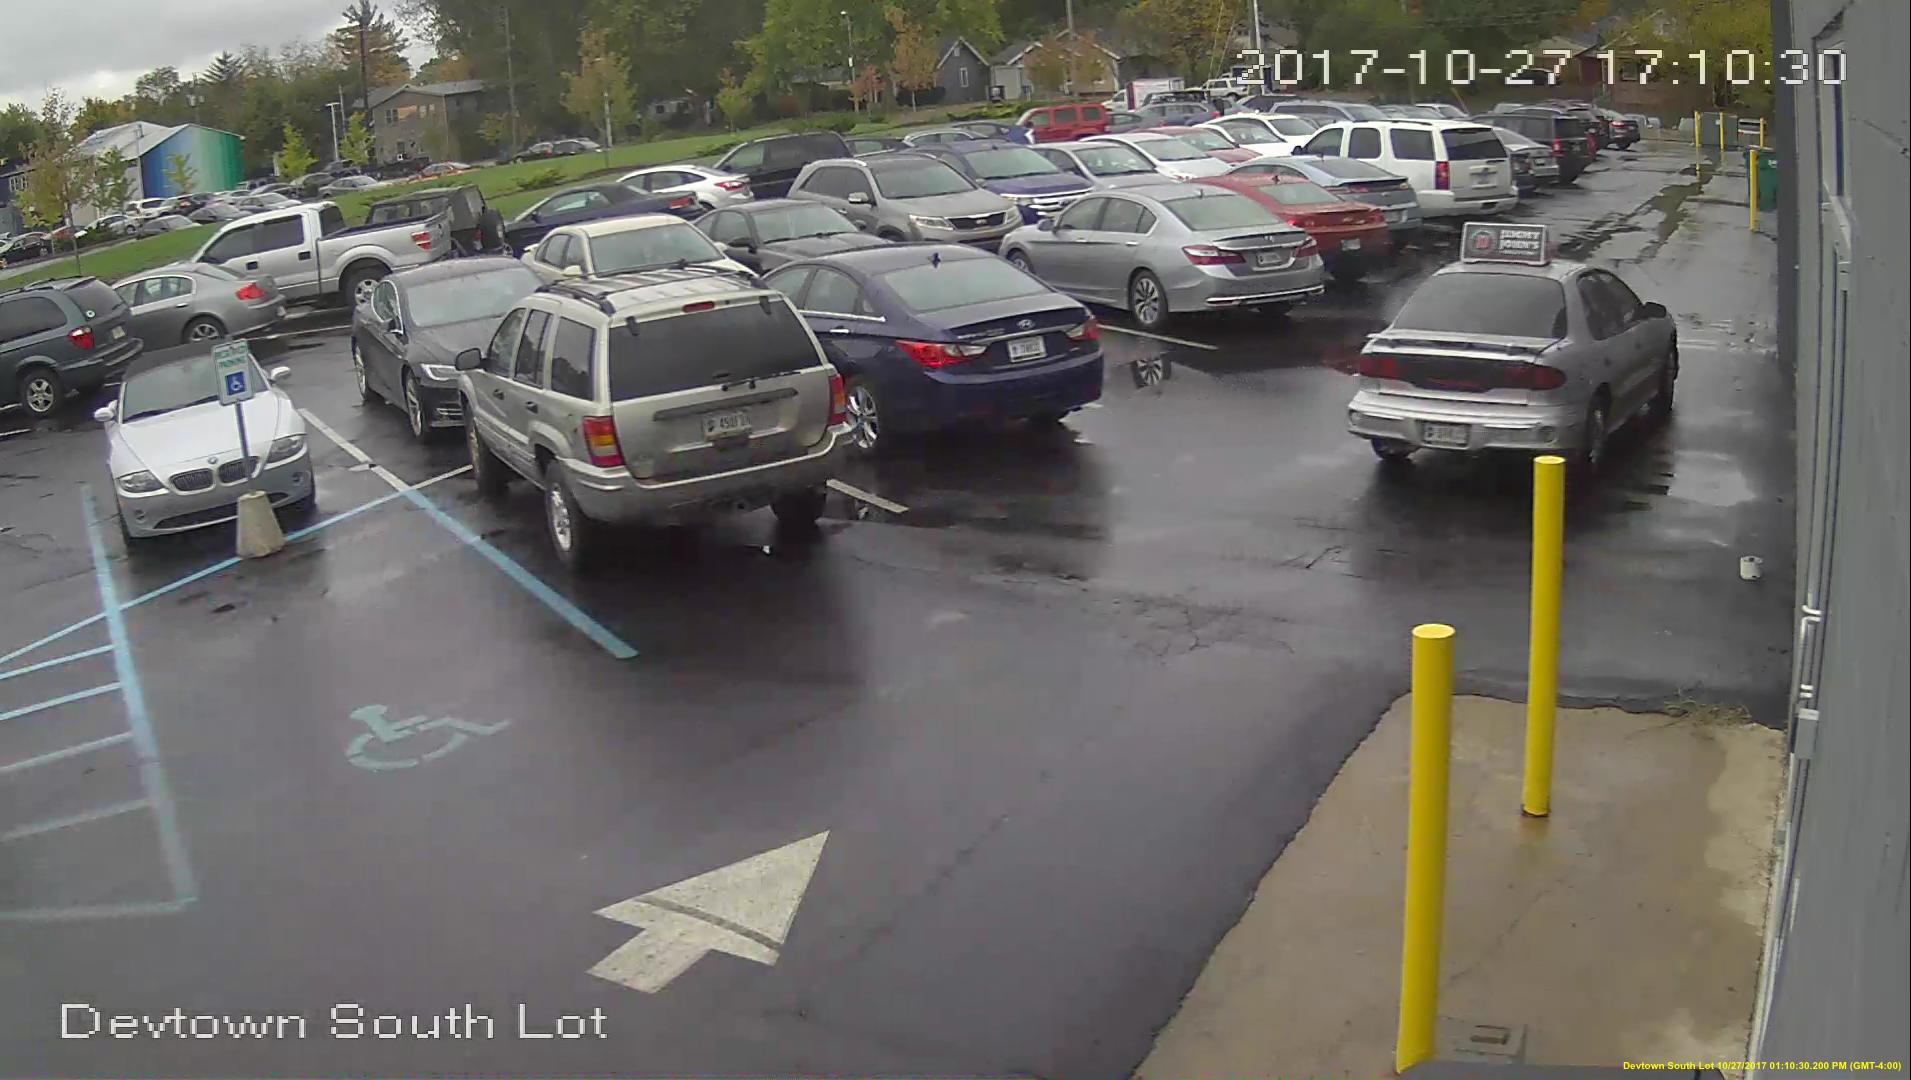jimmy_johns: (1461, 219, 1550, 269)
